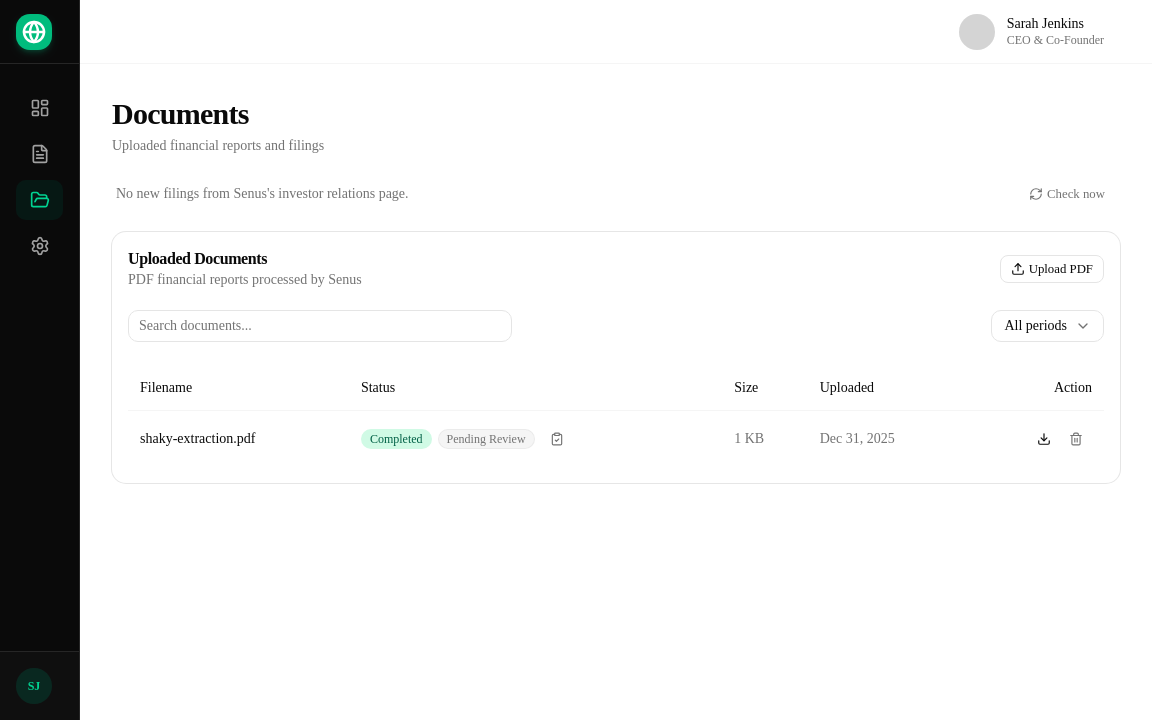
Test case: DocumentsPage › opens the review sheet for a needs_review document and shows its extracted values
Step 1. Click the button named "review shaky-extraction.pdf" → x=557, y=438, box [541,422,573,454]
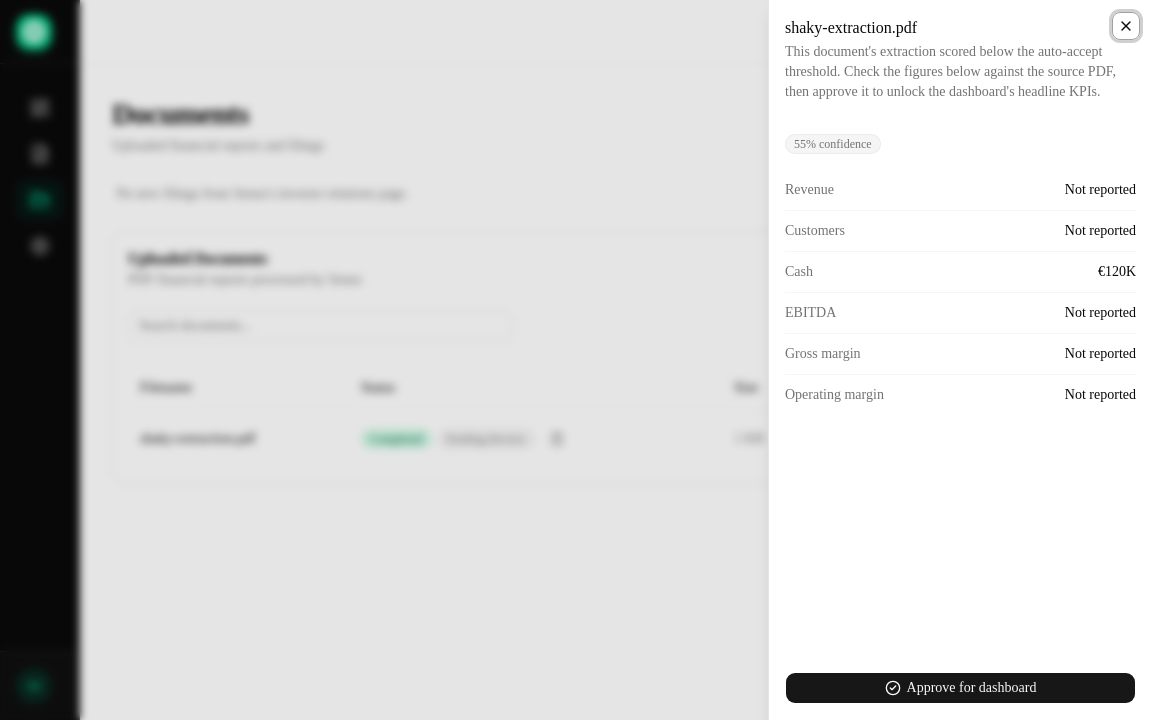
Expected: the text "€120K" is shown, [1098,262,1136,282]
Expected: the text "55% confidence" is shown, [785,134,881,154]
Expected: the text "Not reported" in the row of "Revenue" is shown, [1065,182,1136,197]
